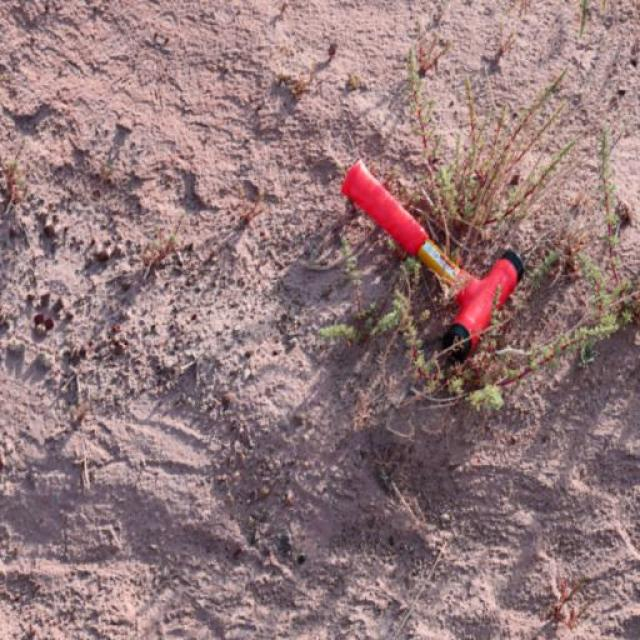mallet: (342, 158, 528, 364)
